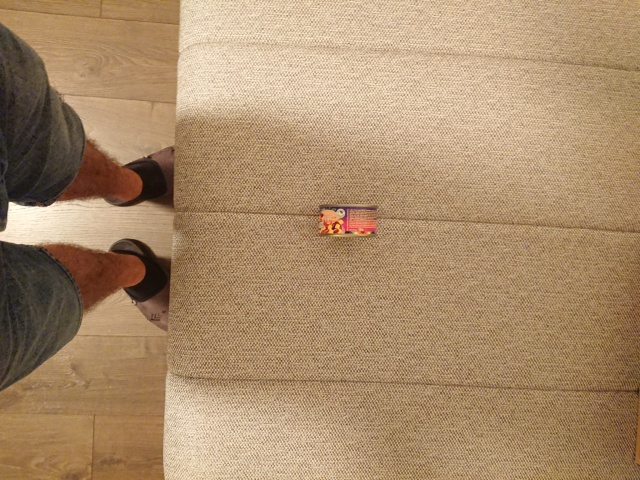Giana Tuna Salad Mexico 185g: (315, 202, 382, 240)
